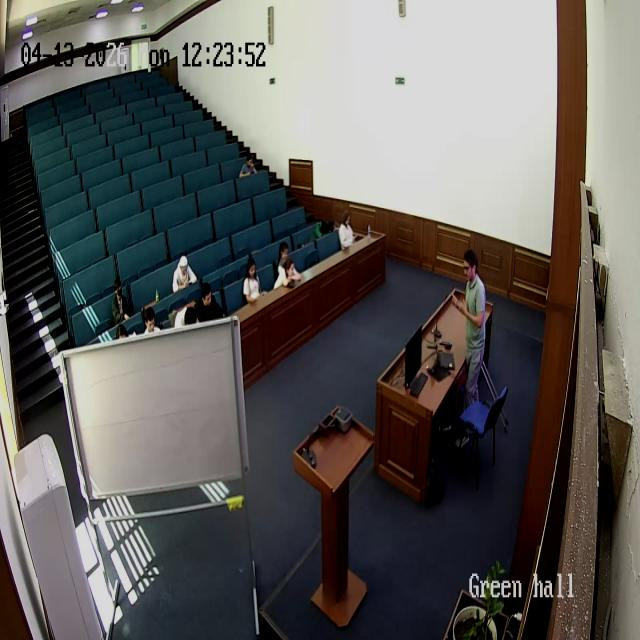person: (452, 248, 488, 420), (241, 255, 265, 307), (196, 282, 222, 322), (111, 278, 131, 329), (274, 255, 302, 291), (171, 255, 197, 293), (336, 210, 356, 250), (174, 300, 198, 328), (142, 305, 162, 334), (311, 218, 330, 248), (276, 240, 291, 277), (238, 154, 258, 178)
